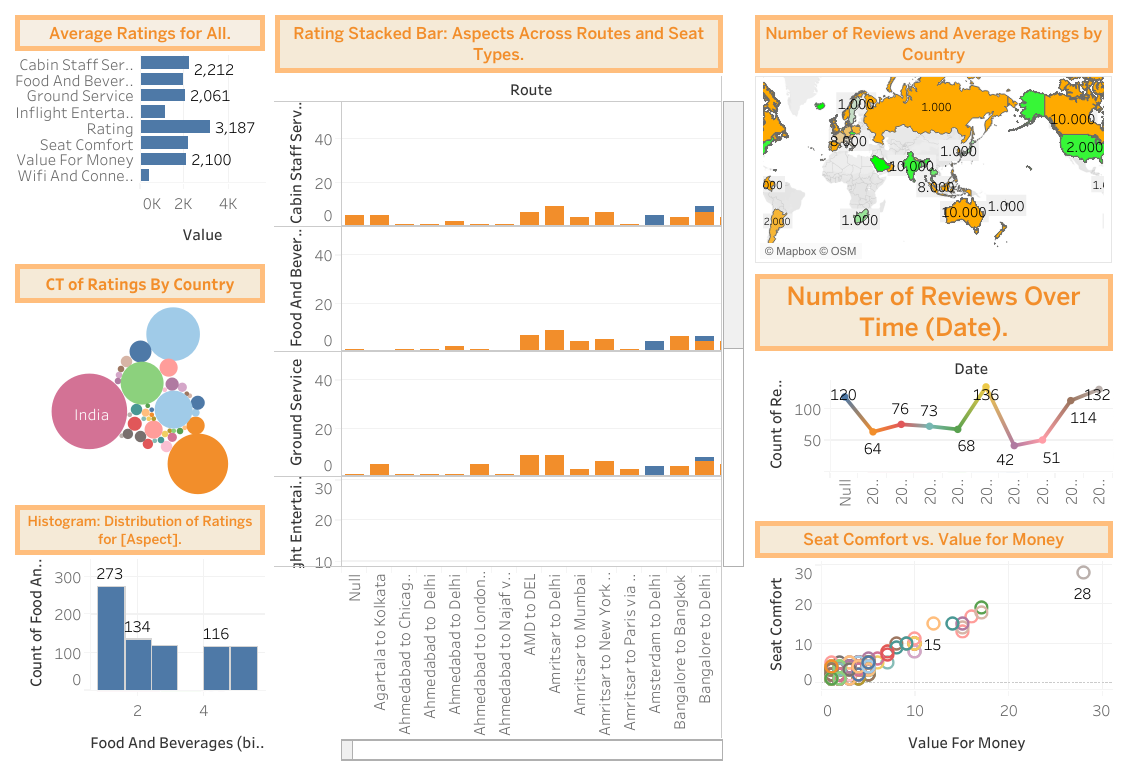

What the dashboard file says about the page in this screenshot:
{"tool":"tableau","page":{"name":"Dashboard 1","canvas":[1000,1000],"units":"permille","ordinal":0},"visuals":[{"type":"worksheet","title":"Average Rating For All","mark":"Automatic","box":[4.8,9.4,232.3,323.1]},{"type":"worksheet","title":"Rating Heat Map: Aspects Across Routes and Seat Types.","mark":"Automatic","rows":["cabin_staff_service","food_and_beverages","ground_service","inflight_entertainment","seat_comfort","value_for_money","wifi_and_connectivity"],"cols":["route"],"box":[237.2,9.4,429.1,981.2]},{"type":"worksheet","title":"Number of Reviews and Average Ratings by Country","mark":"Multipolygon","box":[666.2,9.4,328.9,336.1]},{"type":"worksheet","title":"Count of Ratings By Country","mark":"Circle","box":[4.8,332.5,232.3,312.6]},{"type":"worksheet","title":"Number of Reviews Over Time (Date).","mark":"Automatic","rows":["review"],"cols":["date"],"box":[666.2,345.5,328.9,320.8]},{"type":"worksheet","title":"Histogram: Distribution of Ratings for [Aspect].","mark":"Automatic","rows":["food_and_beverages"],"cols":["Food And Beverages (bin)"],"box":[4.8,645.1,232.3,345.5]},{"type":"worksheet","title":"Seat Comfort vs. Value for Money","mark":"Automatic","rows":["seat_comfort"],"cols":["value_for_money"],"box":[666.2,666.3,328.9,324.3]}]}

Visuals, with their boxes on the dashboard's canvas, which has no fixed pixel size, in thousandths of its width and height (x1, y1, x2, y2). These are canvas units, not pixel positions in the 1126x775 screenshot, which may show the page scaled, cropped or inside an application window:
"Average Rating For All" worksheet: [5, 9, 237, 332]
"Rating Heat Map: Aspects Across Routes and Seat Types." worksheet: [237, 9, 666, 991]
"Number of Reviews and Average Ratings by Country" worksheet (Multipolygon marks): [666, 9, 995, 346]
"Count of Ratings By Country" worksheet (Circle marks): [5, 332, 237, 645]
"Number of Reviews Over Time (Date)." worksheet: [666, 346, 995, 666]
"Histogram: Distribution of Ratings for [Aspect]." worksheet: [5, 645, 237, 991]
"Seat Comfort vs. Value for Money" worksheet: [666, 666, 995, 991]
